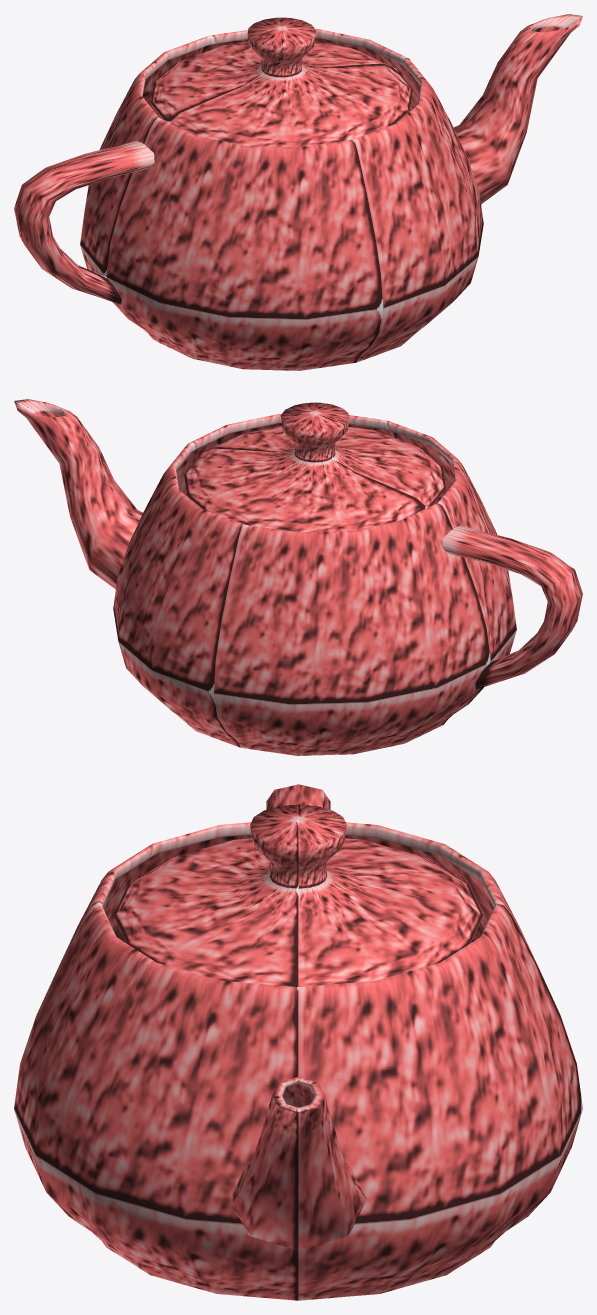
The model's file is teapot.obj.
3 views of the same model, one above another, from view 1: azimuth 30°, elevation 25°; view 2: azimuth 150°, elevation 25°; view 3: azimuth 270°, elevation 25° (orthographic). The views are drawn at different scales.
Visible parts, largest first — view 1: Teapot01; view 2: Teapot01; view 3: Teapot01.
Boxes of the visible parts, x1=… form: Teapot01: x1=14, y1=14, x2=582, y2=370; Teapot01: x1=14, y1=399, x2=582, y2=755; Teapot01: x1=14, y1=784, x2=582, y2=1300.
Bounding box in the file's own units: 168 × 82.49 × 105.
